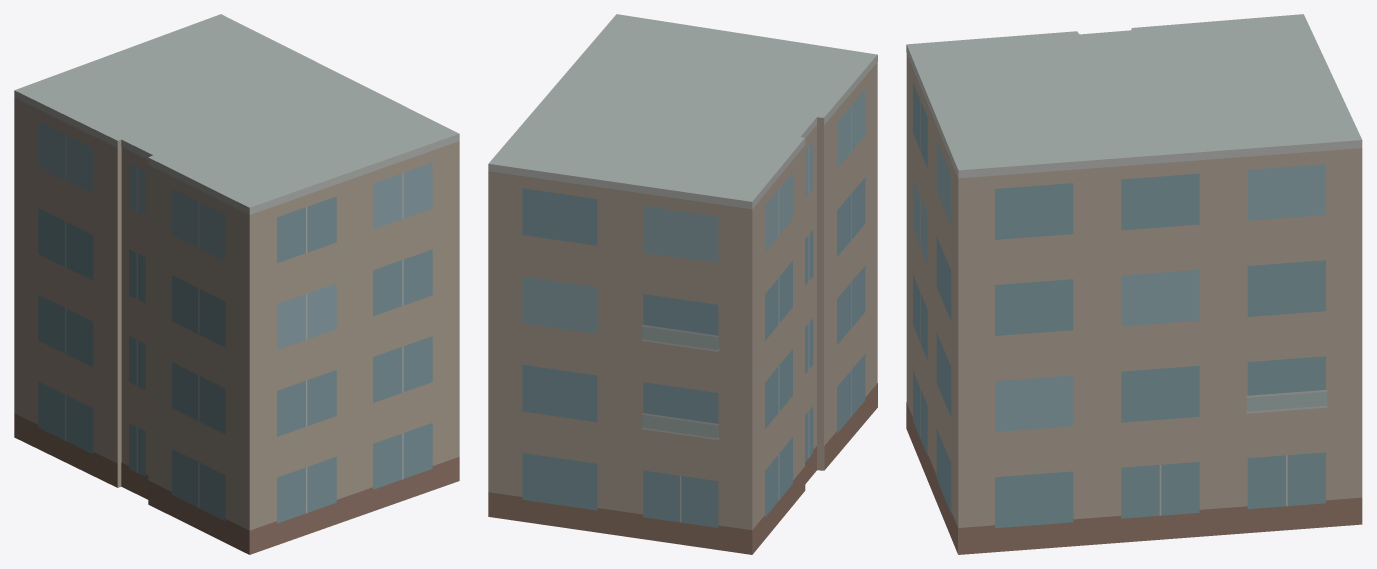
Rendered from survey-upis-32696577.glb.
3 views of the same model, side by side, from view 1: azimuth 30°, elevation 25°; view 2: azimuth 150°, elevation 25°; view 3: azimuth 270°, elevation 25° (orthographic). The views are drawn at different scales.
Visible parts, largest first — view 1: survey-upis-32696577.tmp; view 2: survey-upis-32696577.tmp; view 3: survey-upis-32696577.tmp.
Boxes of the visible parts, bbox=[...] form: survey-upis-32696577.tmp: bbox=[14, 14, 459, 554]; survey-upis-32696577.tmp: bbox=[488, 14, 877, 554]; survey-upis-32696577.tmp: bbox=[906, 14, 1362, 554].
Size of the model in its own units: 10.22 by 11.7 by 12.58.
